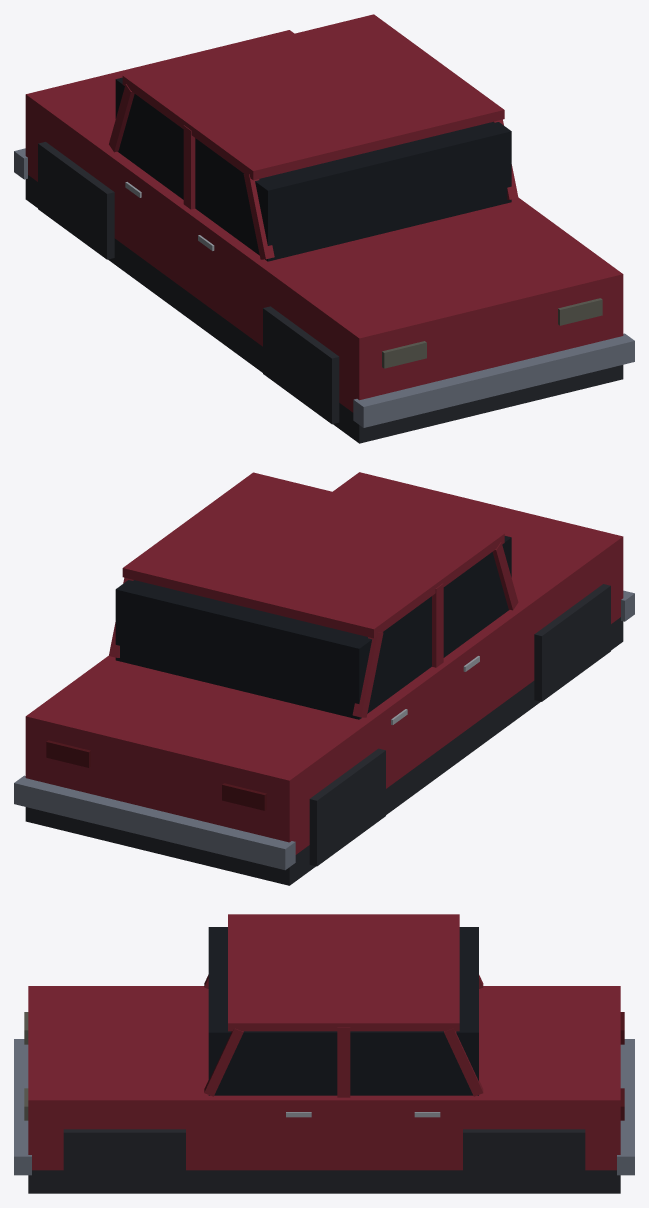
The model's file is manager_car.glb.
3 renders of one model, top to bottom at view 1: azimuth 30°, elevation 25°; view 2: azimuth 150°, elevation 25°; view 3: azimuth 270°, elevation 25°, orthographic. The views are drawn at different scales.
Visible parts, largest first — view 1: body_manager_paint, body_getaway_glass, body_car_black, body_car_grey, frame_manager_paint, lights_lamp_off; view 2: body_manager_paint, body_getaway_glass, body_car_black, body_car_grey, frame_manager_paint, lights_tail_off; view 3: body_manager_paint, body_car_black, body_getaway_glass, body_car_grey, frame_manager_paint.
Boxes of the visible parts, x1,y1,x2,y2 form: body_manager_paint: (25, 14, 623, 412); body_getaway_glass: (115, 77, 511, 261); body_car_black: (25, 142, 623, 443); body_car_grey: (14, 148, 634, 427); frame_manager_paint: (109, 84, 518, 259); lights_lamp_off: (382, 298, 602, 368); body_manager_paint: (25, 472, 623, 854); body_getaway_glass: (115, 536, 511, 719); body_car_black: (25, 584, 623, 885); body_car_grey: (14, 590, 634, 870); frame_manager_paint: (109, 542, 518, 717); lights_tail_off: (46, 740, 266, 810); body_manager_paint: (28, 914, 620, 1170); body_car_black: (28, 1129, 620, 1193); body_getaway_glass: (208, 927, 478, 1095); body_car_grey: (14, 1039, 634, 1175); frame_manager_paint: (204, 974, 483, 1097).
Bounding box in the file's own units: 2.22 × 1.44 × 4.82.
